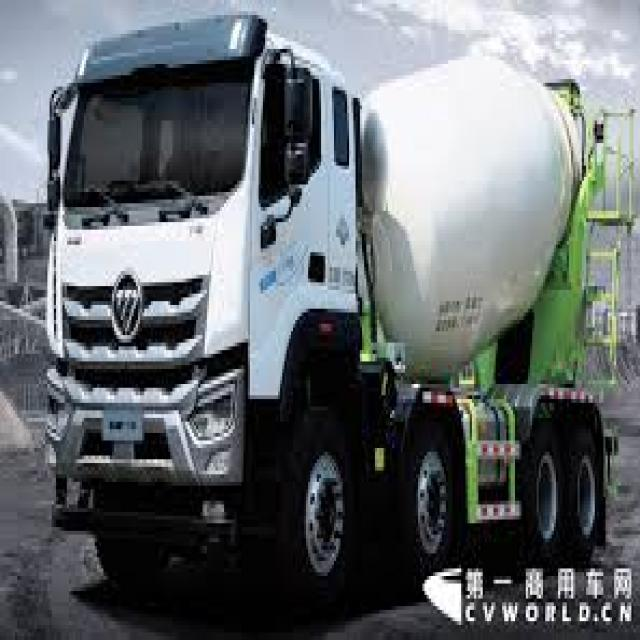Mixer Truck: (41, 12, 636, 608)
